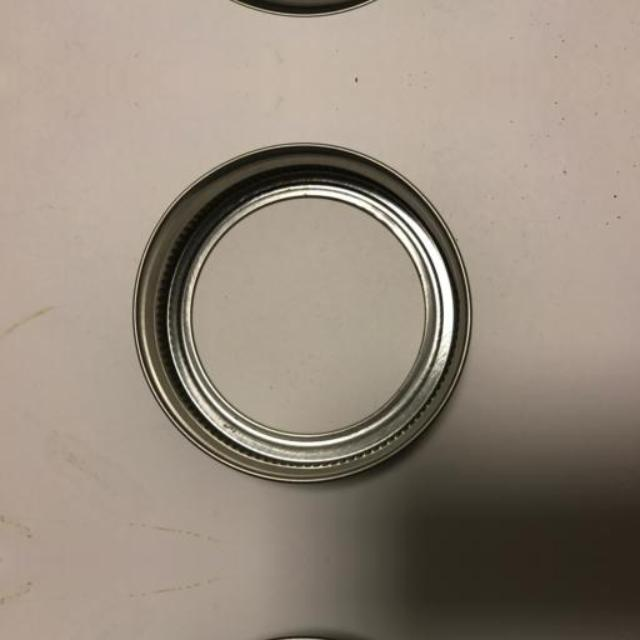Metal: (116, 130, 490, 504), (116, 0, 490, 30), (116, 615, 490, 640)
